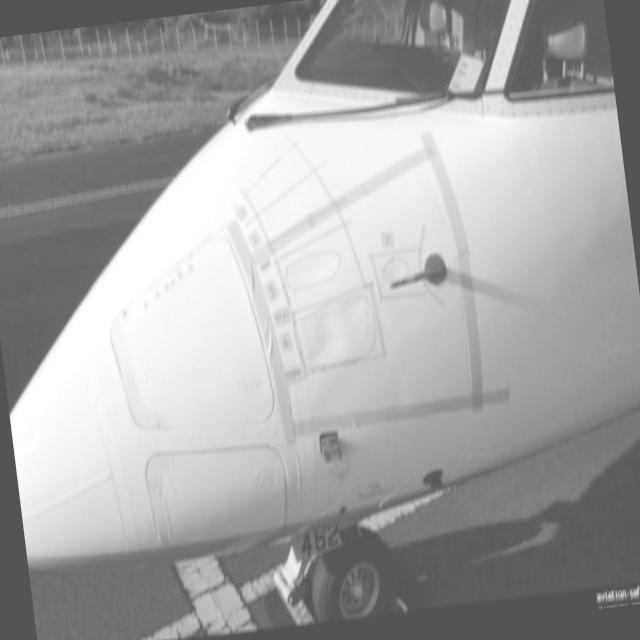dent: (296, 292, 378, 369), (279, 249, 345, 291), (383, 255, 408, 282)
